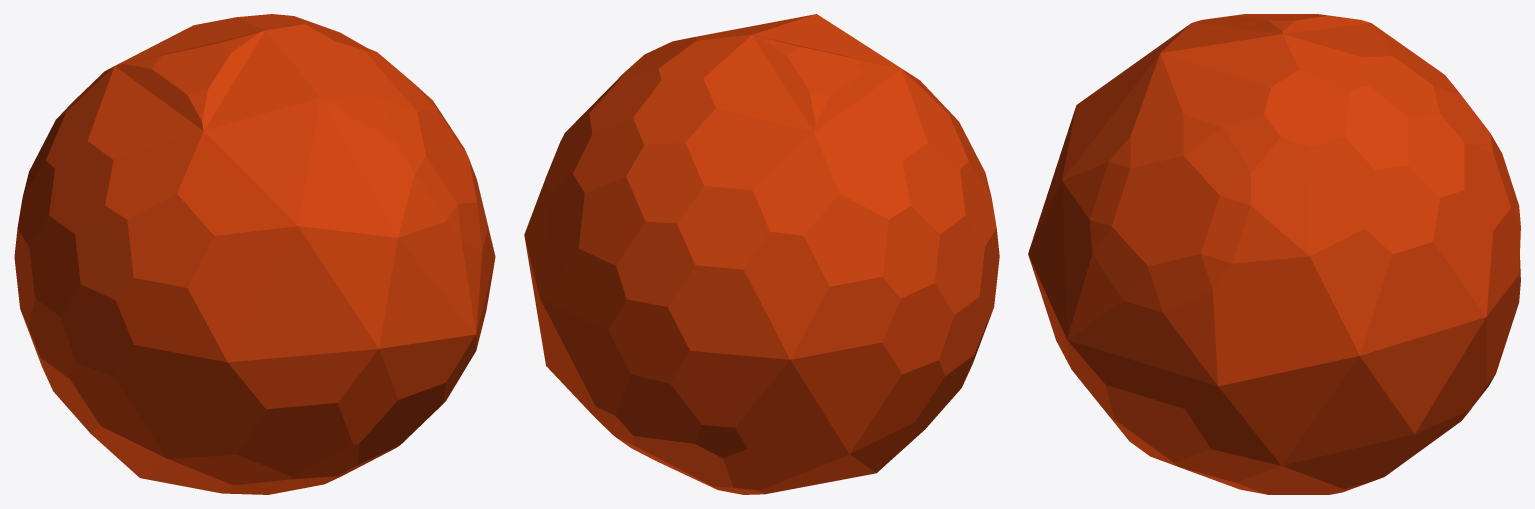
Rendered from Sun.fbx.
3 views of the same model, side by side, from view 1: azimuth 30°, elevation 25°; view 2: azimuth 150°, elevation 25°; view 3: azimuth 270°, elevation 25° (orthographic). The views are drawn at different scales.
Visible parts, largest first — view 1: Icosphere; view 2: Icosphere; view 3: Icosphere.
Part boxes in pixels (bbox=[...]): Icosphere: bbox=[14, 14, 495, 494]; Icosphere: bbox=[524, 14, 999, 494]; Icosphere: bbox=[1028, 14, 1520, 494].
Size of the model in its own units: 444 by 459 by 450.
